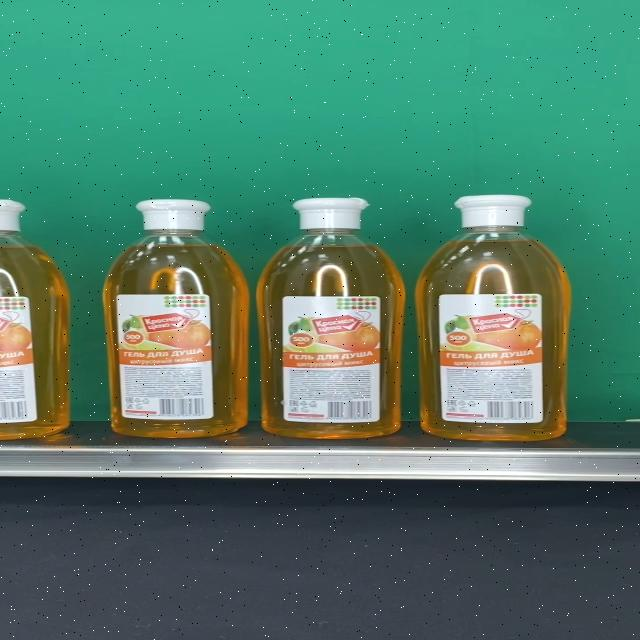Bottle: (414, 195, 572, 442), (258, 197, 406, 439), (101, 199, 249, 438)
Cap: (454, 195, 534, 228), (292, 197, 372, 229), (136, 199, 211, 231)
